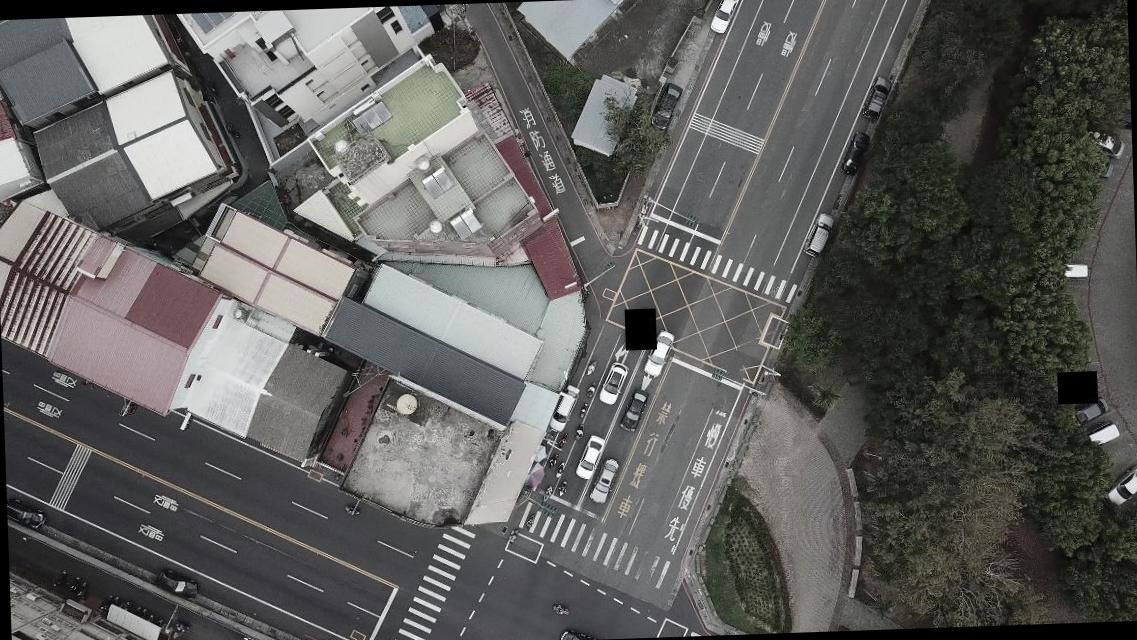vehicle: (648, 81, 684, 131), (546, 384, 580, 434), (801, 210, 836, 258), (573, 434, 607, 482), (586, 458, 620, 506), (641, 330, 675, 378), (596, 361, 630, 405), (152, 567, 196, 601), (7, 496, 47, 532), (861, 74, 892, 120), (1082, 126, 1126, 158), (840, 130, 870, 176), (1104, 464, 1136, 507), (617, 388, 648, 432), (1069, 397, 1109, 428), (709, 0, 741, 36), (1084, 420, 1121, 451), (1056, 263, 1091, 280)
